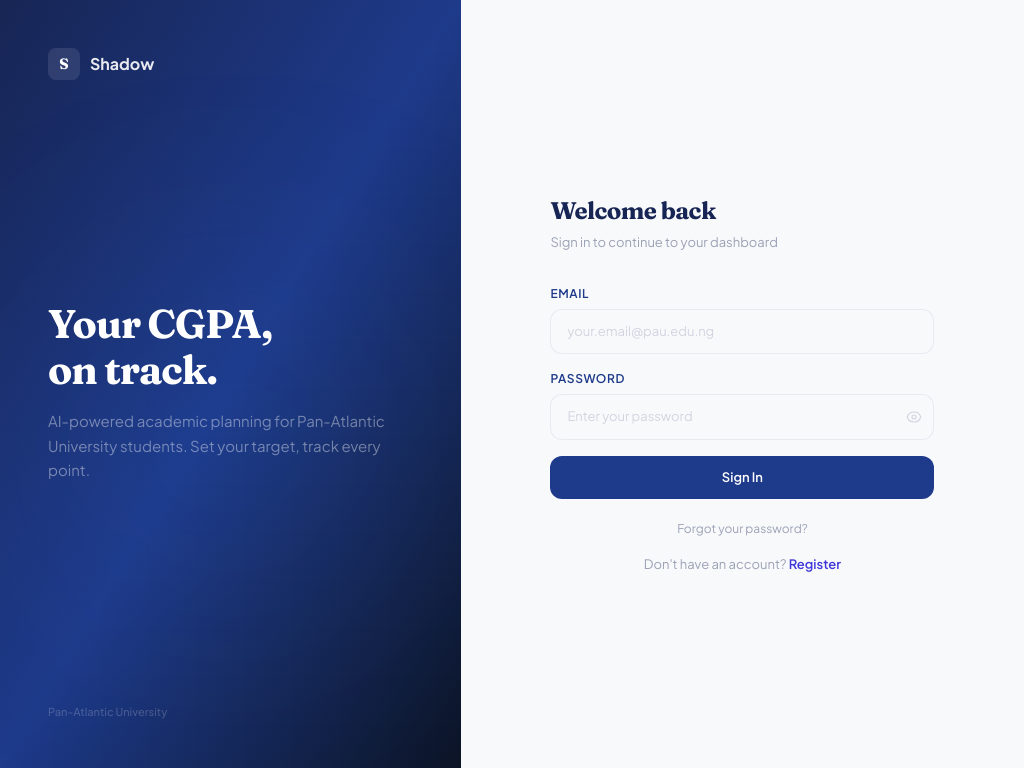
it: LoginPage › displays error message on failed login
The width and height of the screenshot is (1024, 768).
Type "wrong@pau.edu.ng" into the field with placeholder "your.email@pau.edu.ng".
click(742, 332); type("wrong@pau.edu.ng")  # box x1=550 y1=309 x2=934 y2=354
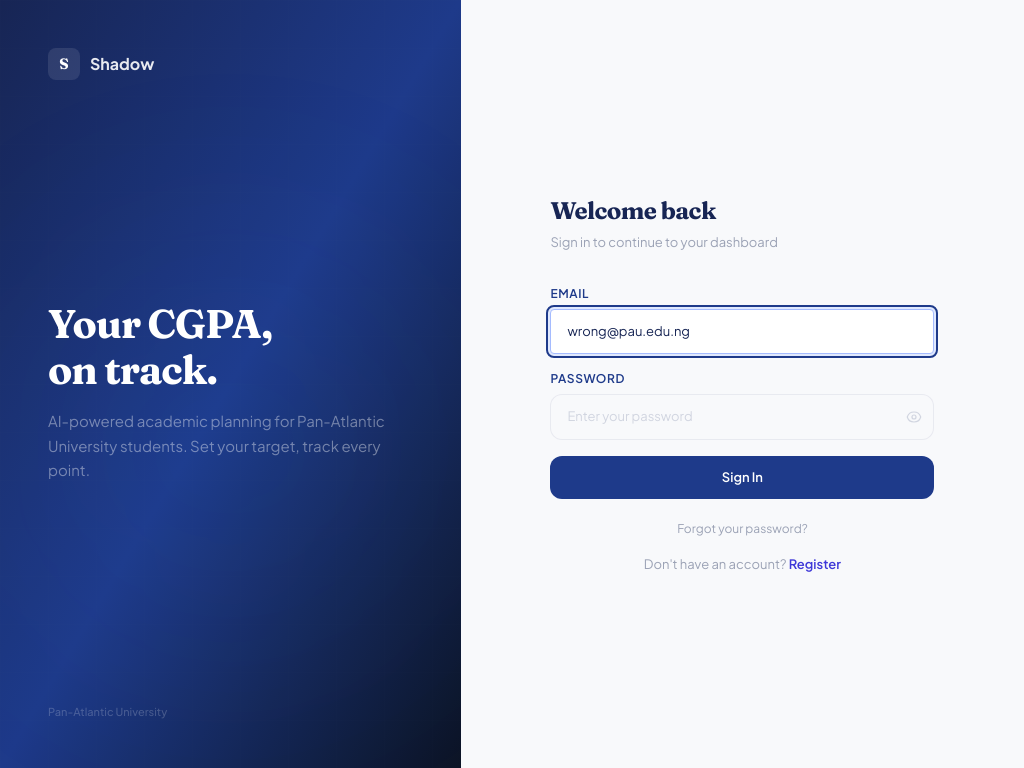
Type "bad" into the password field with placeholder "Enter your password".
click(742, 417); type("bad")  # box x1=550 y1=394 x2=934 y2=440
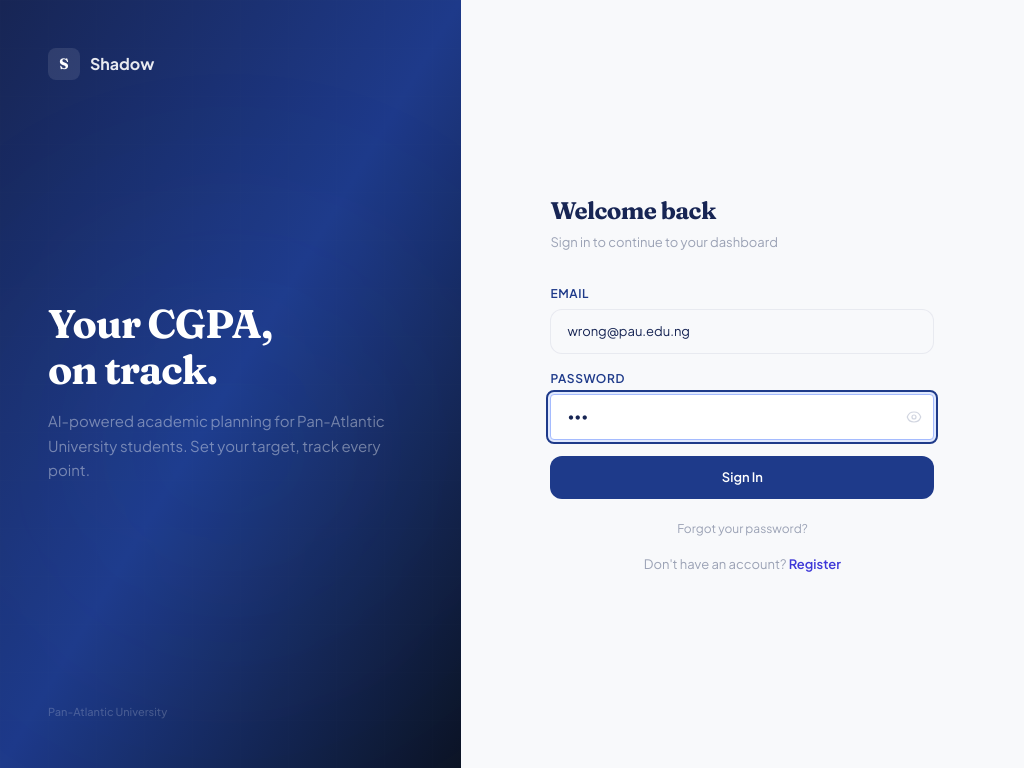
Click the button "Sign In".
click(742, 478)  # box x1=550 y1=456 x2=934 y2=499
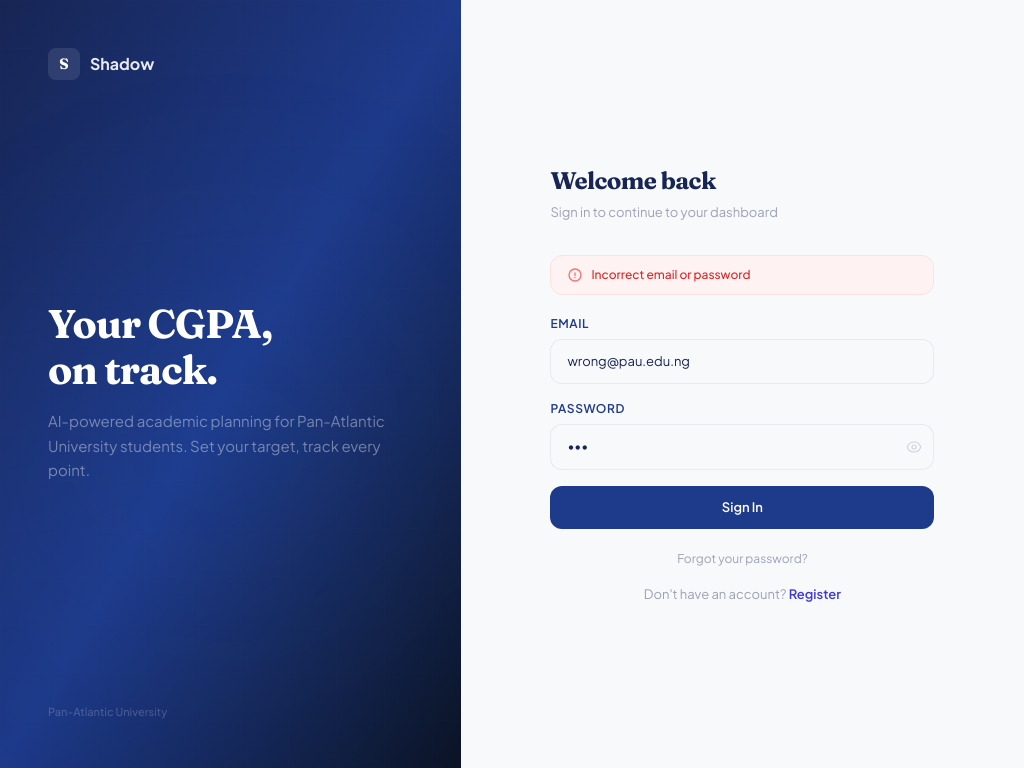
Check: the text "Incorrect email or password" is shown, box x1=591 y1=266 x2=750 y2=284
